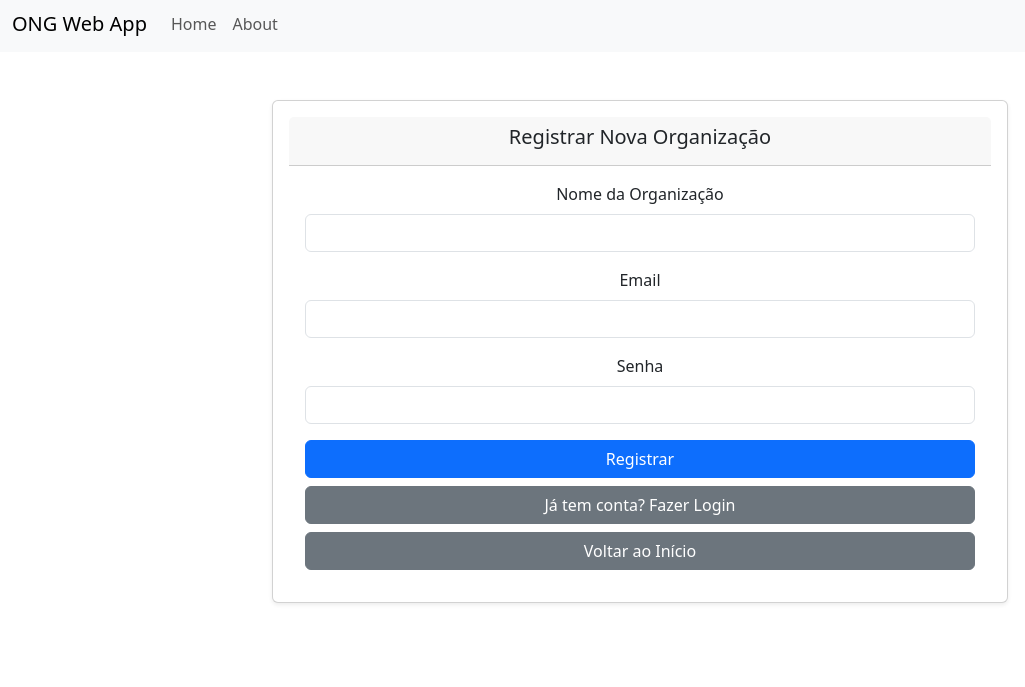
Scenario: Register page flow › has link to login page
The width and height of the screenshot is (1025, 687).
Click the button "Já tem conta? Fazer Login" at [640, 505], box [305, 486, 975, 524]
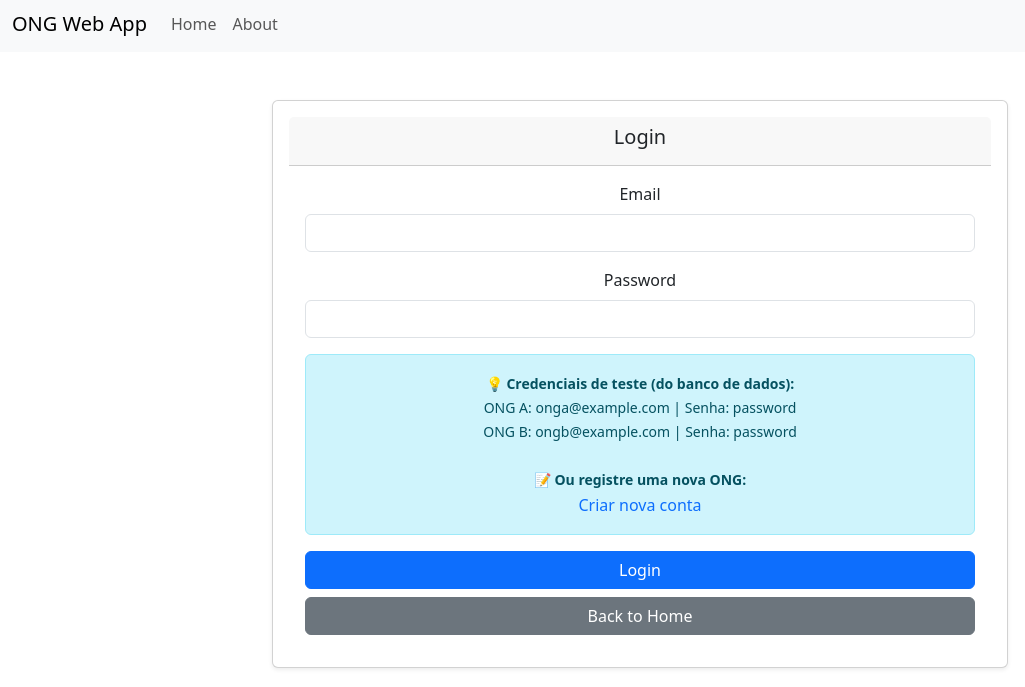
Expected: the heading "Login" is shown, [614, 123, 666, 150]
